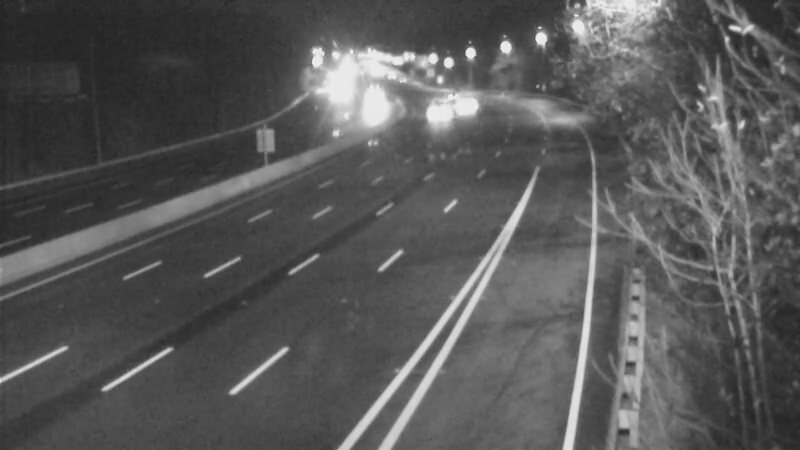vehicle: (429, 75, 479, 125), (441, 76, 491, 126), (410, 85, 460, 135), (348, 79, 398, 129)
